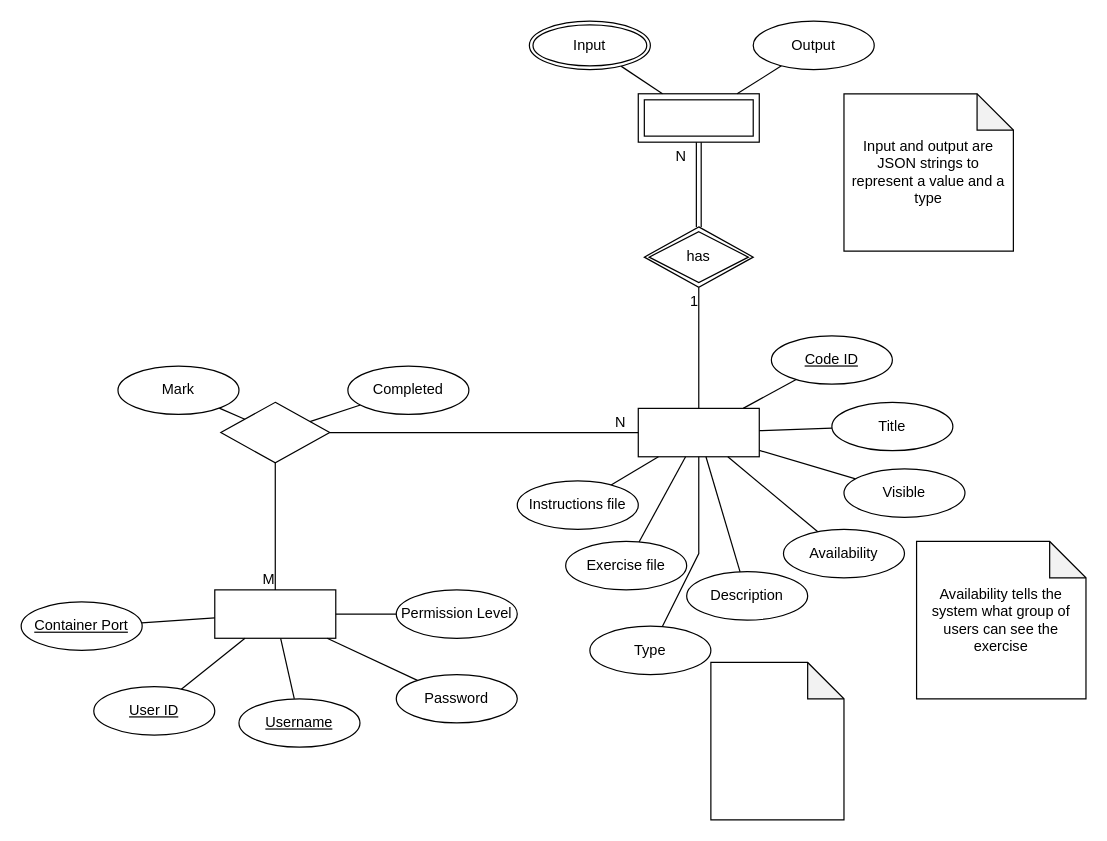
The diagram is 1107 pixels wide and 841 high, and some of its shapes have lost their labels. Each missing label, with the box of its shape:
Code answer: (637, 93, 759, 142)
Code exercise: (637, 407, 759, 457)
completes: (220, 401, 330, 463)
Type will determine what kind of exercise this is - pretest, practice, posttest: (710, 661, 844, 820)
User: (214, 589, 336, 638)
